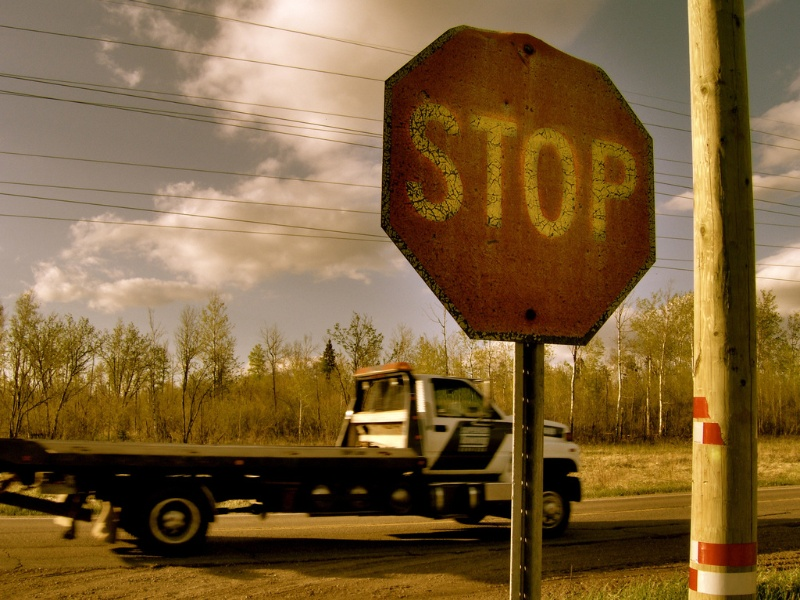stop: (380, 31, 671, 353)
